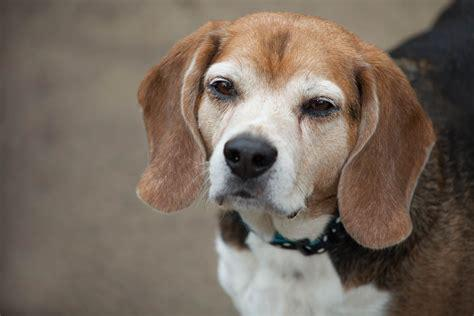dog: (137, 1, 474, 316)
